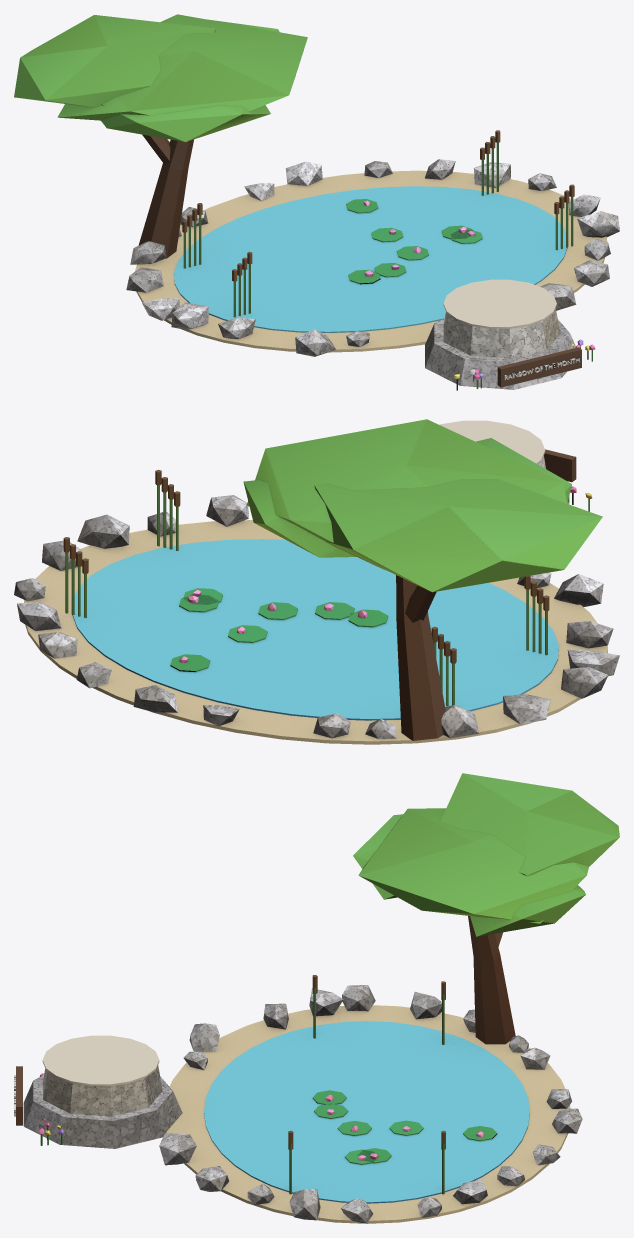
The model's file is hub_pond.fbx.
3 views of the same model, one above another, from view 1: azimuth 30°, elevation 25°; view 2: azimuth 150°, elevation 25°; view 3: azimuth 270°, elevation 25° (orthographic). The views are drawn at different scales.
Visible parts, largest first — view 1: hub_pond_body; view 2: hub_pond_body; view 3: hub_pond_body.
Part boxes in pixels (left/top/right/bottom): hub_pond_body: left=14, top=14, right=619, bottom=390; hub_pond_body: left=14, top=419, right=619, bottom=744; hub_pond_body: left=14, top=773, right=619, bottom=1223.
Bounding box in the file's own units: 3491 × 1383 × 3531.
1 material, 1 textured.
